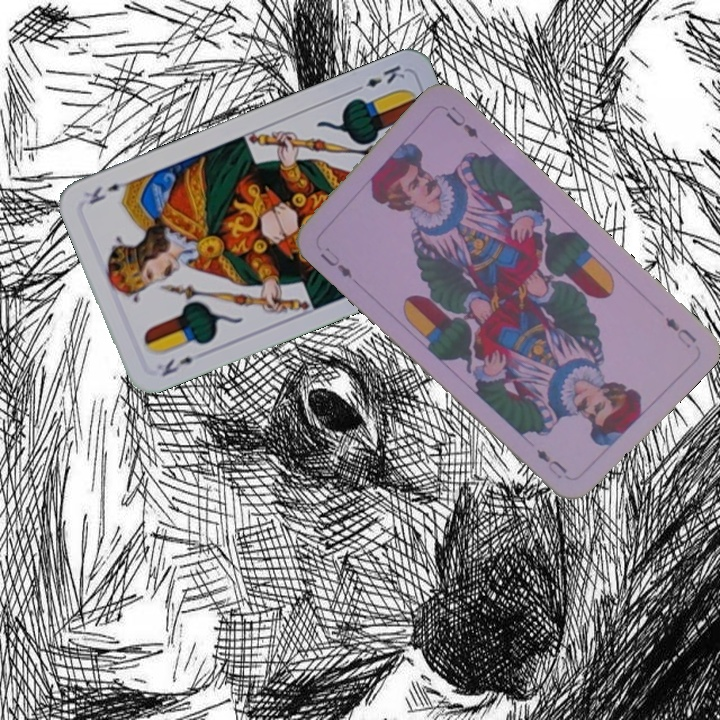EK: (349, 61, 408, 95), (157, 352, 196, 380)
EU: (661, 312, 700, 351), (315, 243, 355, 281)
